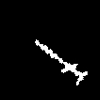double_crochet: (35, 40, 86, 84)
